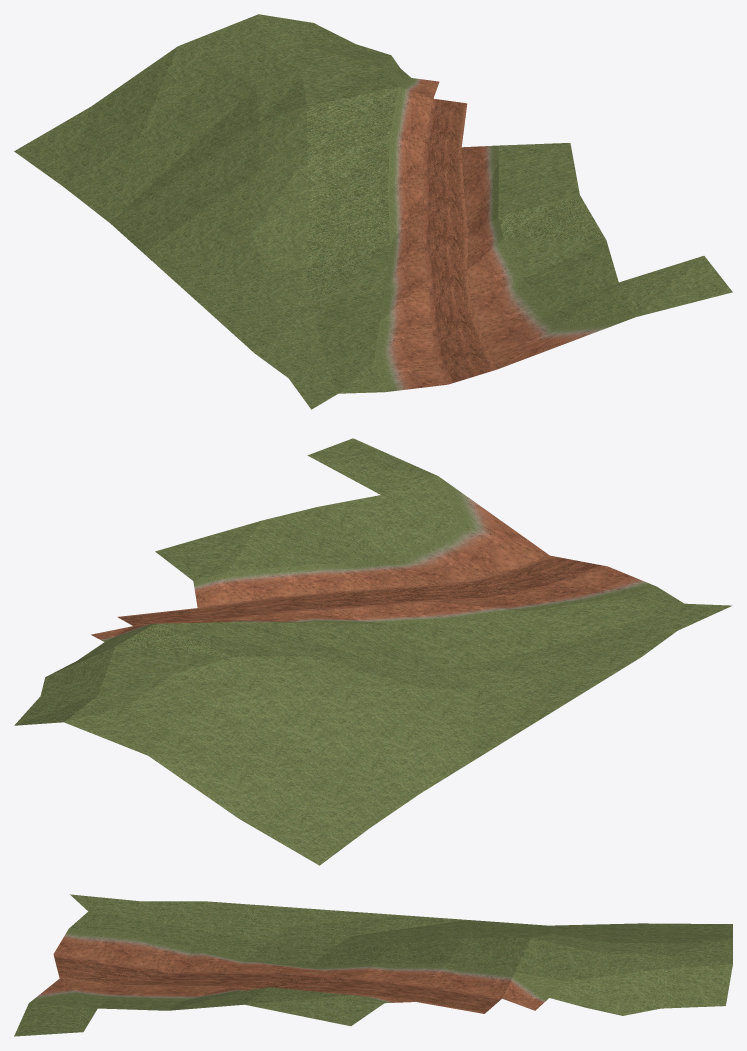
Rendered from se_bit_15.obj.
3 renders of one model, top to bottom at view 1: azimuth 30°, elevation 25°; view 2: azimuth 150°, elevation 25°; view 3: azimuth 270°, elevation 25°, orthographic. The views are drawn at different scales.
Visible parts, largest first — view 1: se_bit_15; view 2: se_bit_15; view 3: se_bit_15.
Boxes of the visible parts, x1=… form: se_bit_15: x1=14, y1=14, x2=732, y2=409; se_bit_15: x1=14, y1=438, x2=732, y2=865; se_bit_15: x1=14, y1=894, x2=732, y2=1036.
Size of the model in its own units: 139 by 27.26 by 222.
3 materials, 3 textured.
